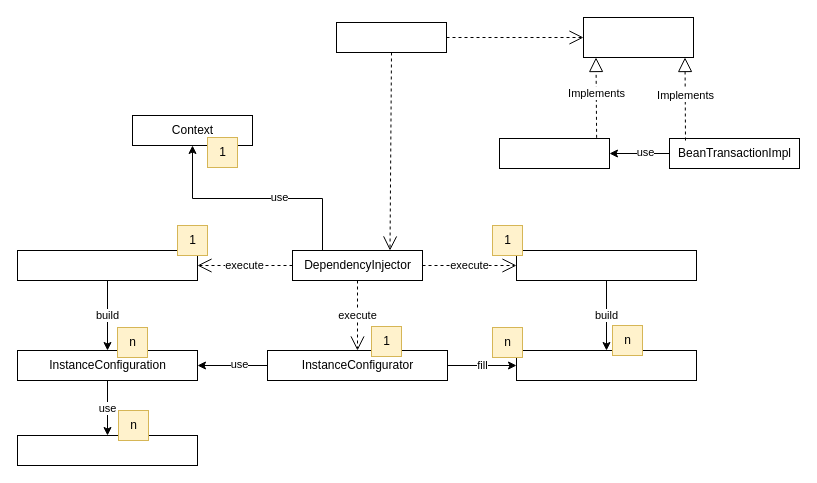
This 817x483 diagram has some shape labels left out. The shapes that lost their labels are listed below. From the top down, each one's box as (x1, y1, x2, y2) in pixels, then its label:
(336, 22, 446, 52): Init
(582, 16, 694, 58): «interface» IBean
(498, 138, 610, 168): BeanPersonImpl
(16, 250, 198, 280): InstanceConfigurationReader
(516, 250, 696, 280): ObjectFactory
(516, 350, 696, 380): Object
(16, 434, 198, 466): ParameterConfiguration
